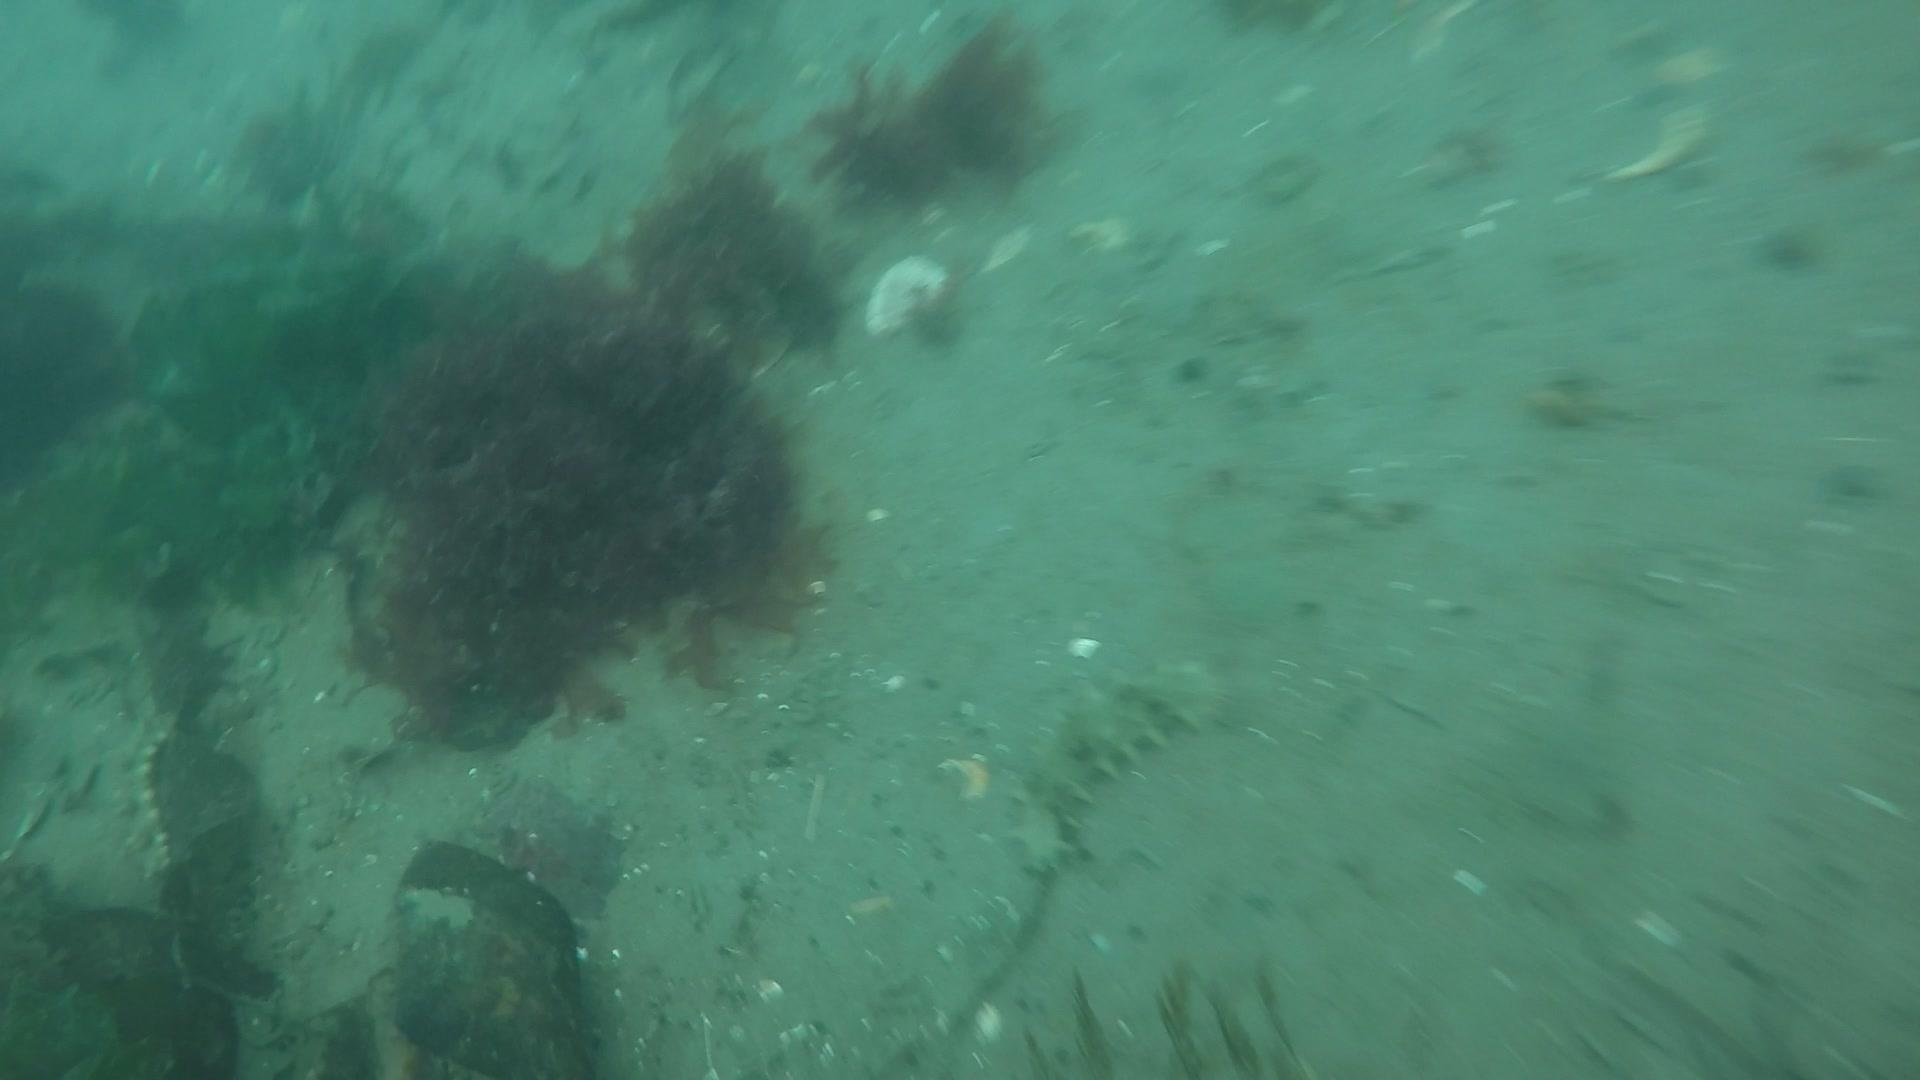holothurian: (998, 649, 1236, 881)
